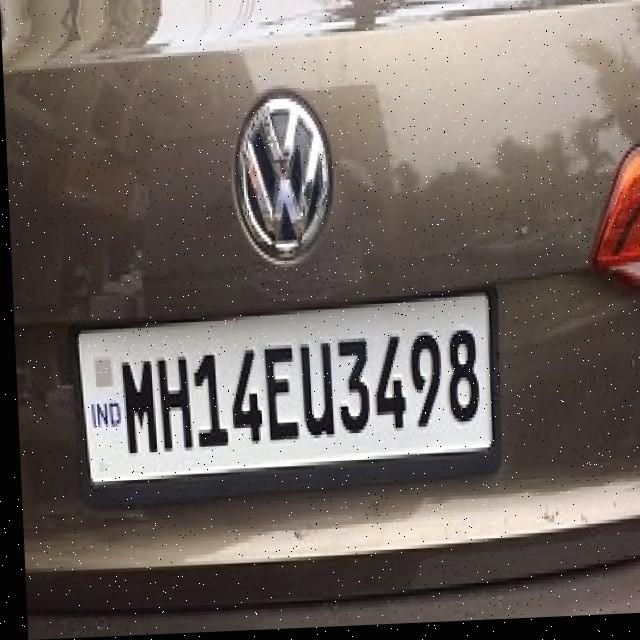plate: (69, 290, 492, 486)
